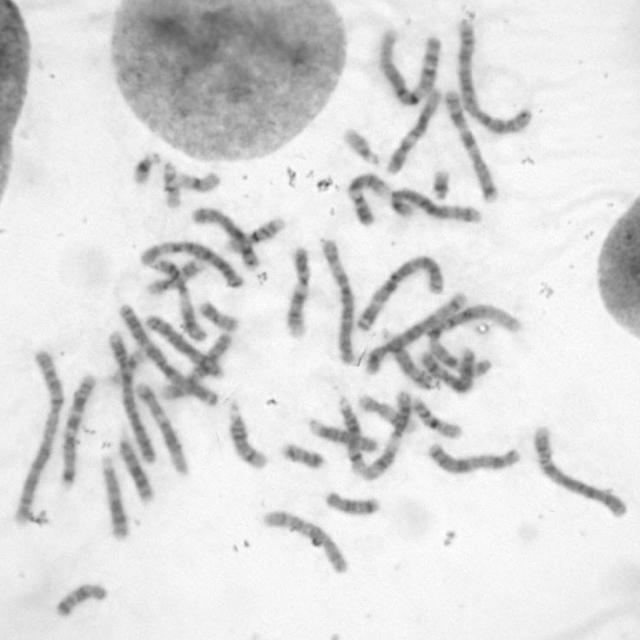A1: (425, 298, 523, 377), (374, 25, 444, 107)
A2: (9, 346, 65, 526), (452, 15, 534, 136)
A3: (114, 300, 219, 409), (354, 251, 445, 331)
B4: (530, 422, 630, 519), (103, 326, 158, 466)
B5: (359, 289, 470, 374), (386, 184, 482, 225)
C10: (259, 506, 351, 574), (158, 330, 234, 402)
C11: (146, 254, 208, 343), (358, 386, 413, 480)
C12: (382, 84, 444, 176), (132, 379, 190, 476)
C6: (134, 237, 246, 289), (317, 234, 358, 366)
C7: (440, 85, 500, 203), (56, 370, 98, 490)
C8: (142, 311, 225, 381), (191, 206, 262, 274)
C9: (281, 243, 312, 339), (345, 168, 393, 227)
D13: (96, 452, 132, 539), (114, 432, 156, 504)
D14: (225, 400, 270, 471), (334, 393, 368, 474)
D15: (378, 328, 441, 390), (304, 415, 379, 454)
E16: (222, 212, 288, 254), (408, 393, 464, 440)
E17: (354, 389, 419, 434), (143, 255, 205, 298)
E18: (51, 578, 109, 620), (320, 488, 380, 518)
F19: (106, 341, 148, 389), (172, 167, 222, 194)
F20: (195, 297, 240, 334), (278, 439, 326, 471)
G21: (128, 149, 162, 186), (427, 165, 452, 202)
G22: (339, 123, 381, 167), (158, 160, 182, 209)
X: (424, 439, 523, 475), (415, 342, 480, 392)
